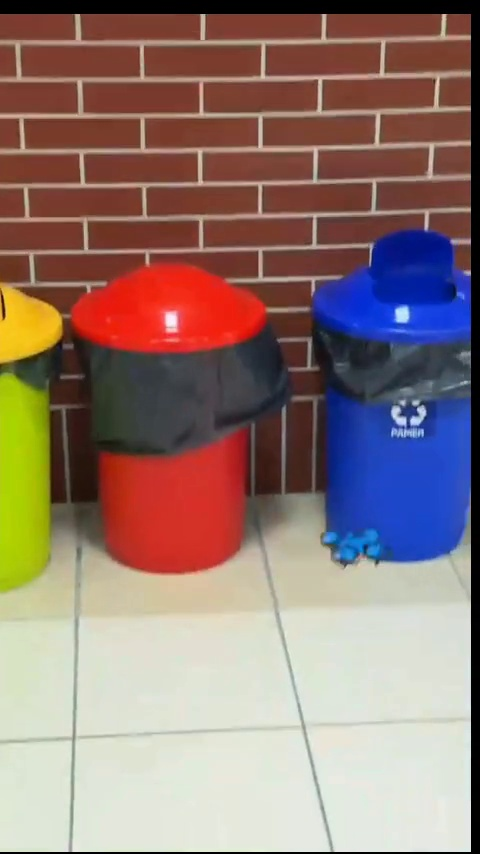drone: (323, 531, 384, 565)
